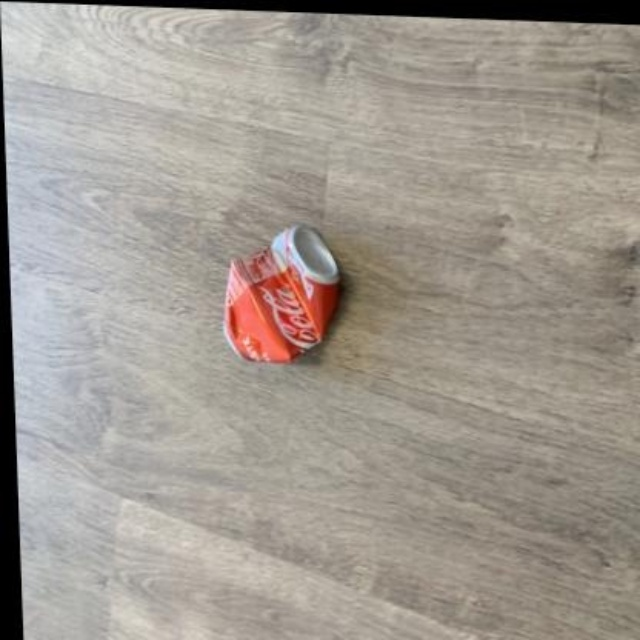trash: (223, 223, 338, 362)
